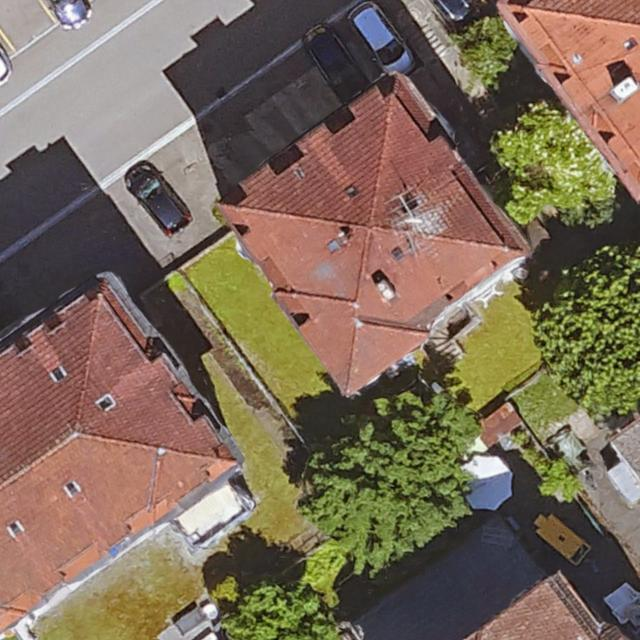tree: (306, 369, 484, 558), (528, 248, 640, 418), (486, 108, 617, 226), (206, 546, 343, 640), (439, 15, 522, 80)
